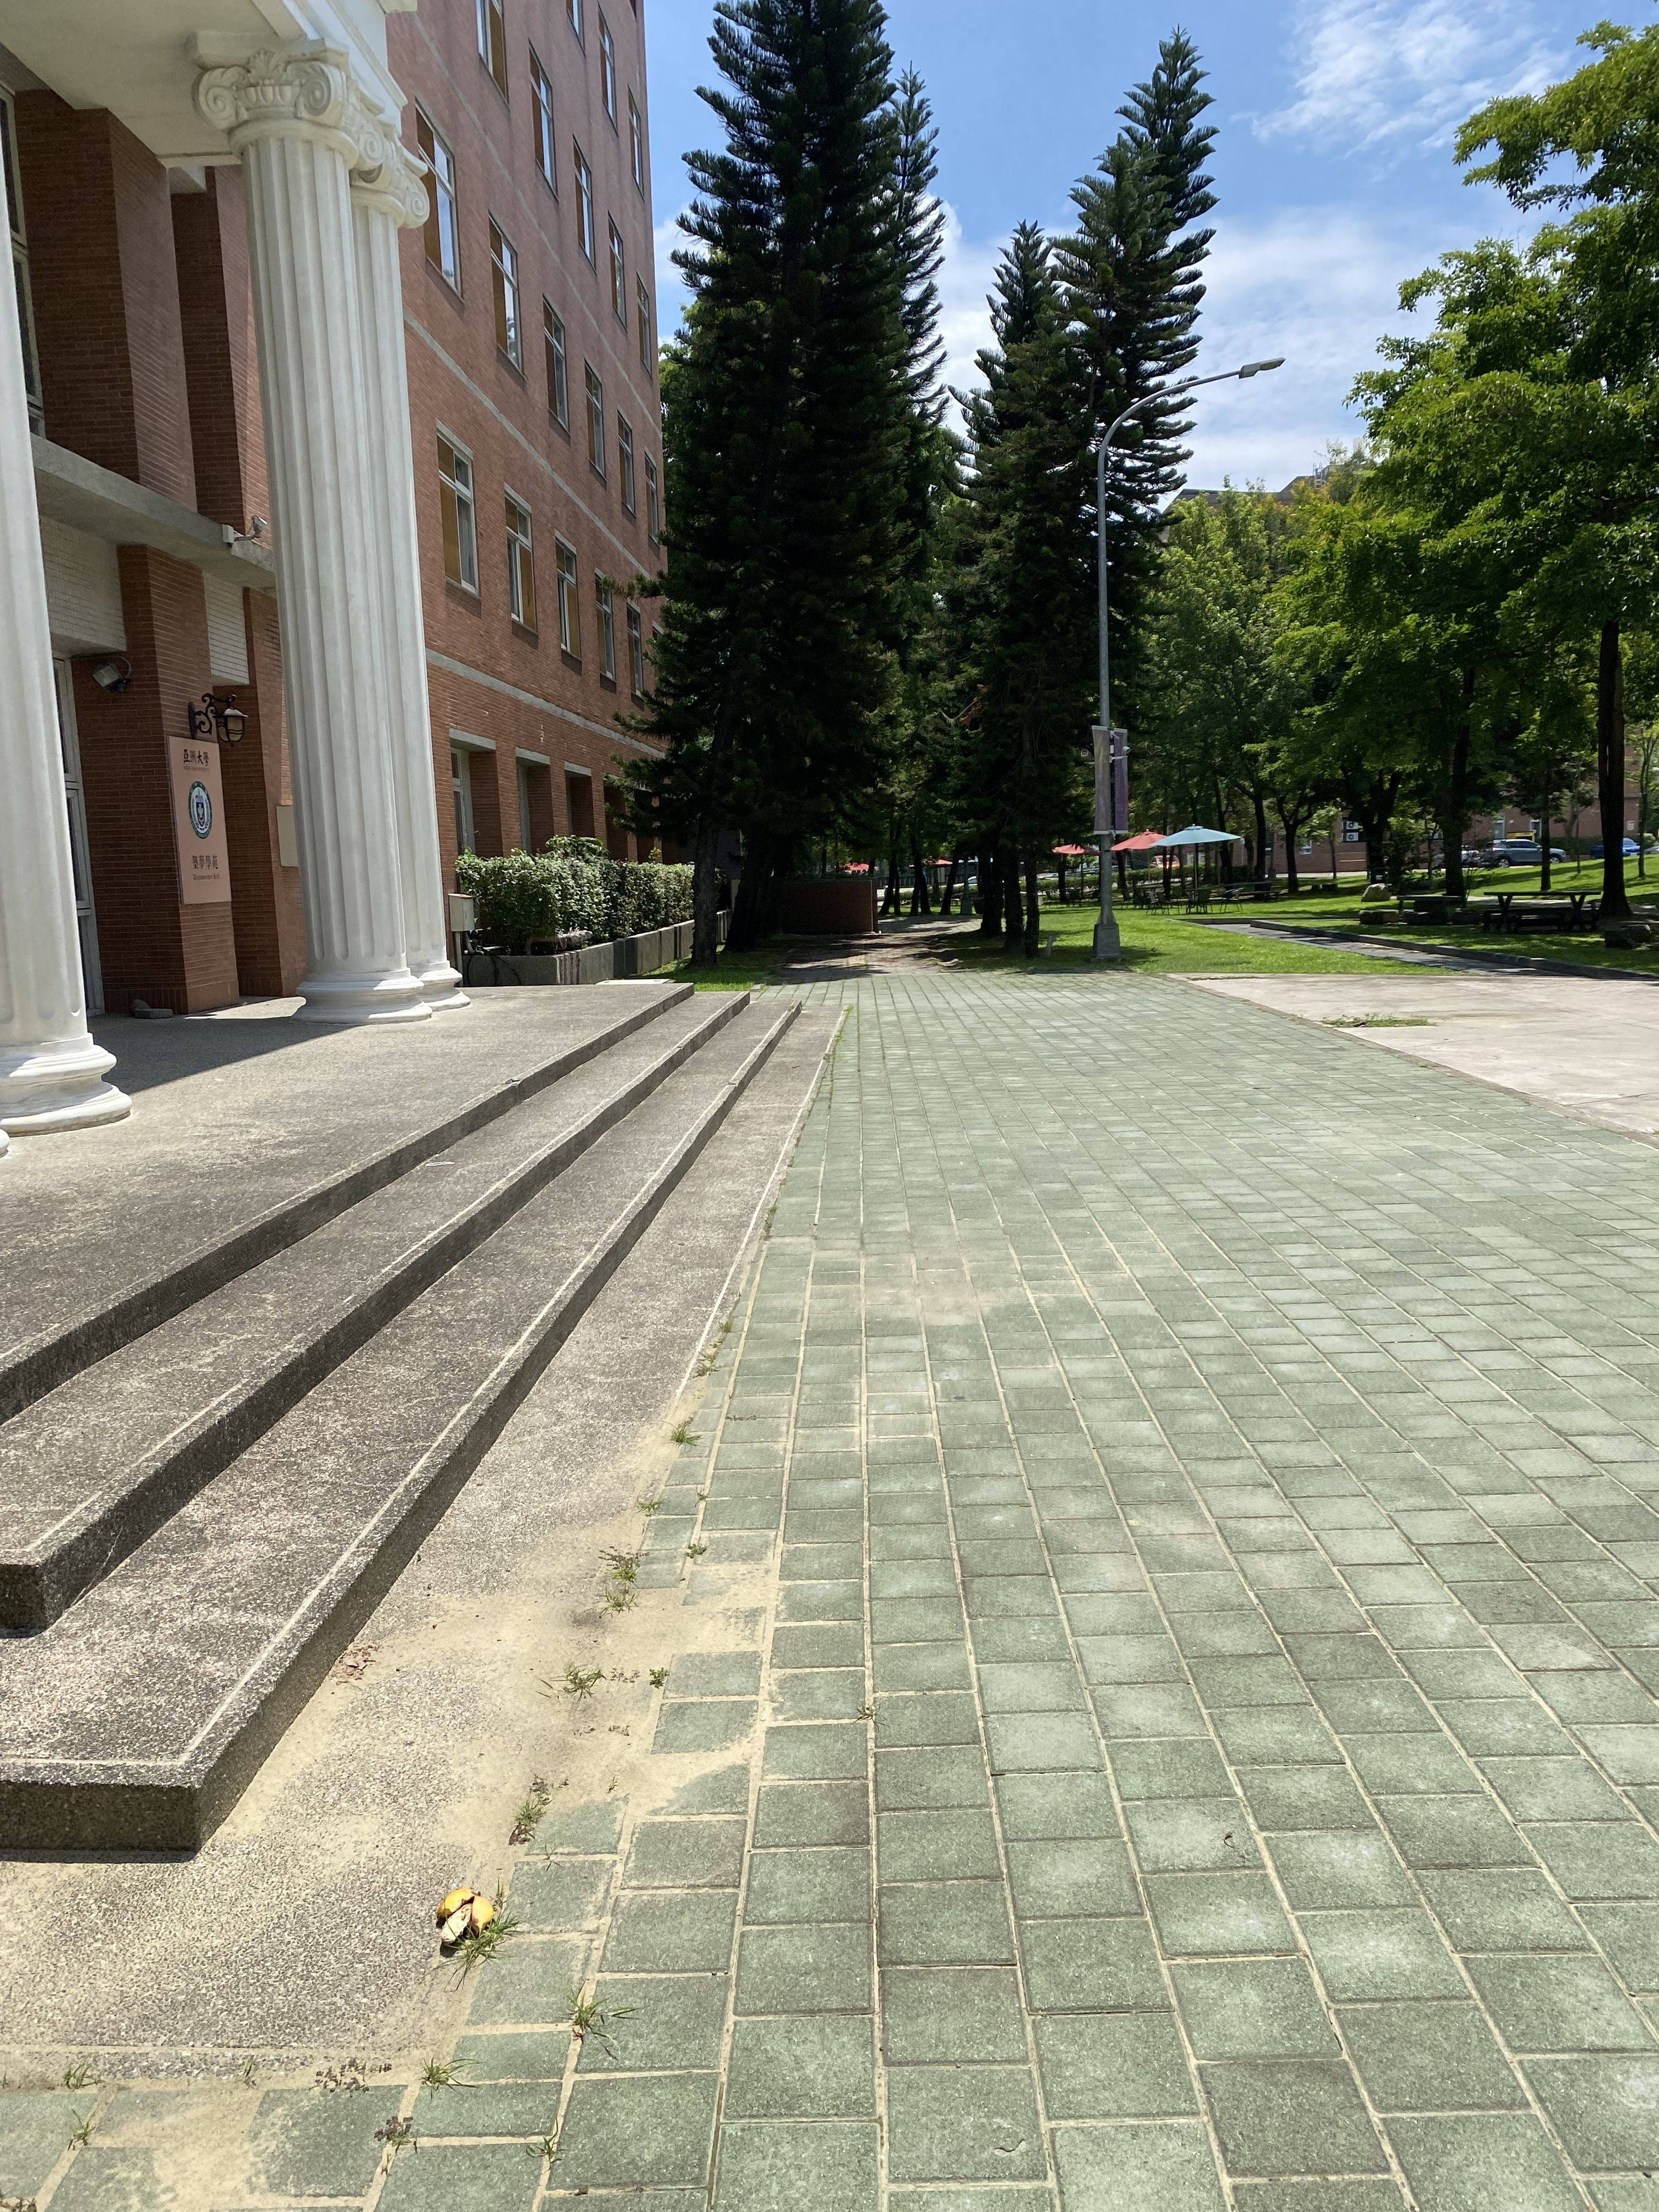0: (10, 1818, 795, 2212)
sidewalk: (702, 880, 1659, 2210)
